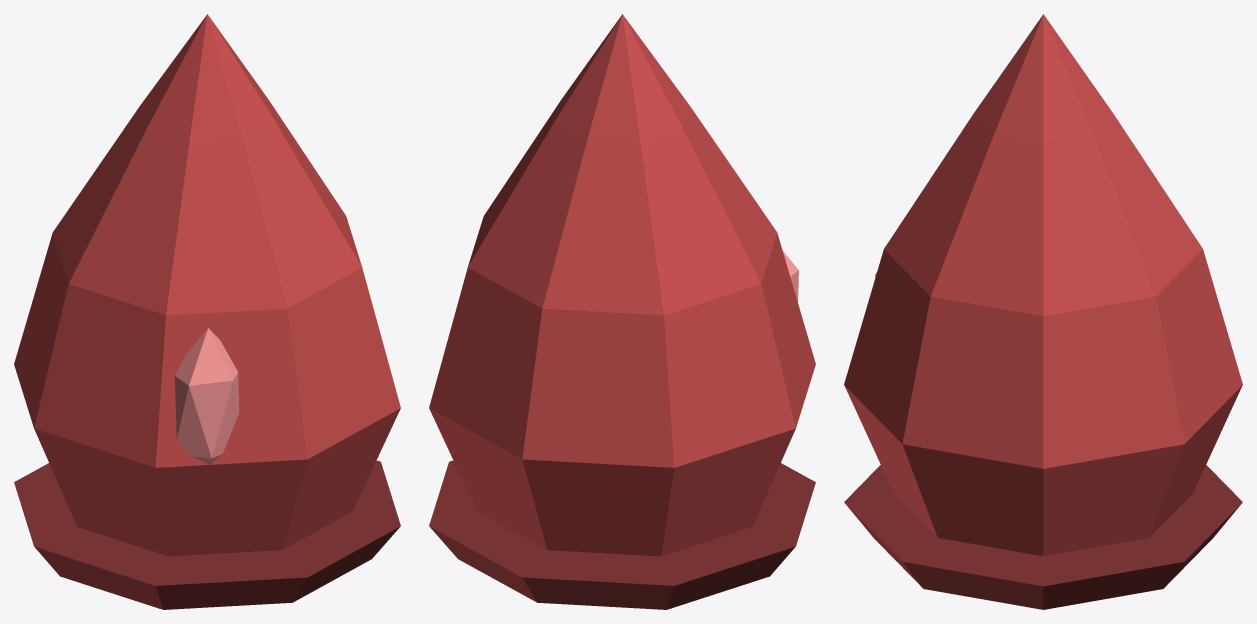
File: drop.glb
3 renders of one model, left to right at view 1: azimuth 30°, elevation 25°; view 2: azimuth 150°, elevation 25°; view 3: azimuth 270°, elevation 25°, orthographic.
Visible parts, largest first — view 1: drop; view 2: drop; view 3: drop.
Boxes of the visible parts, x1,y1,x2,y2 form: drop: (14,14,400,609); drop: (429,14,815,609); drop: (844,14,1242,609).
Bounding box in the file's own units: 0.2 × 0.29 × 0.2.
